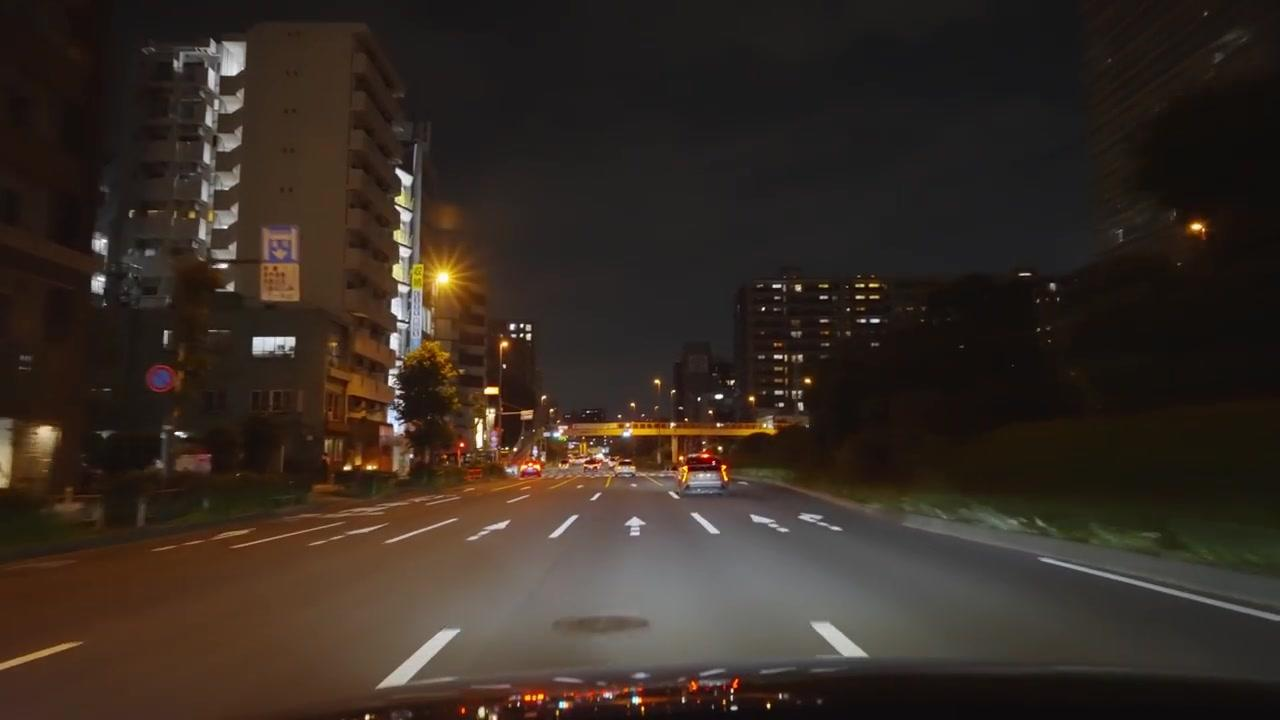car: (676, 451, 728, 495), (517, 460, 544, 478), (583, 456, 605, 474), (616, 465, 636, 478)
traffic light: (144, 362, 179, 394)
